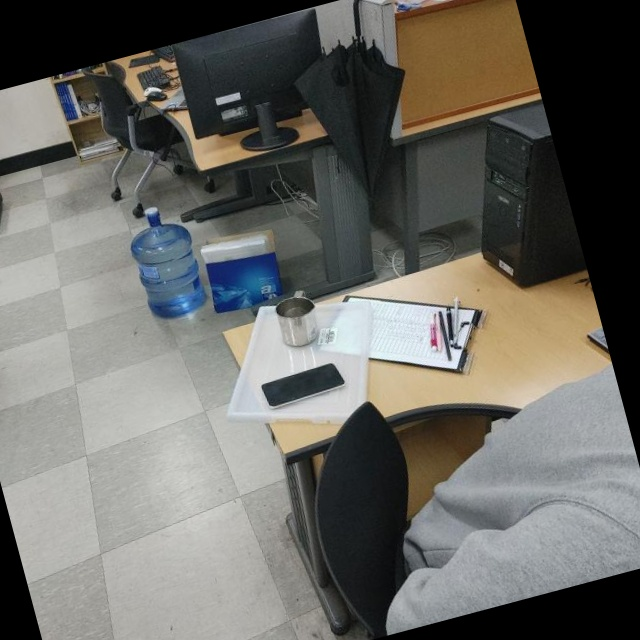cup: (269, 286, 327, 354)
phone: (260, 360, 347, 410)
